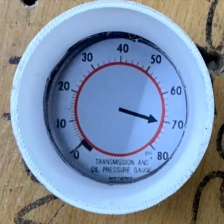gauge: (44, 32, 188, 184)
